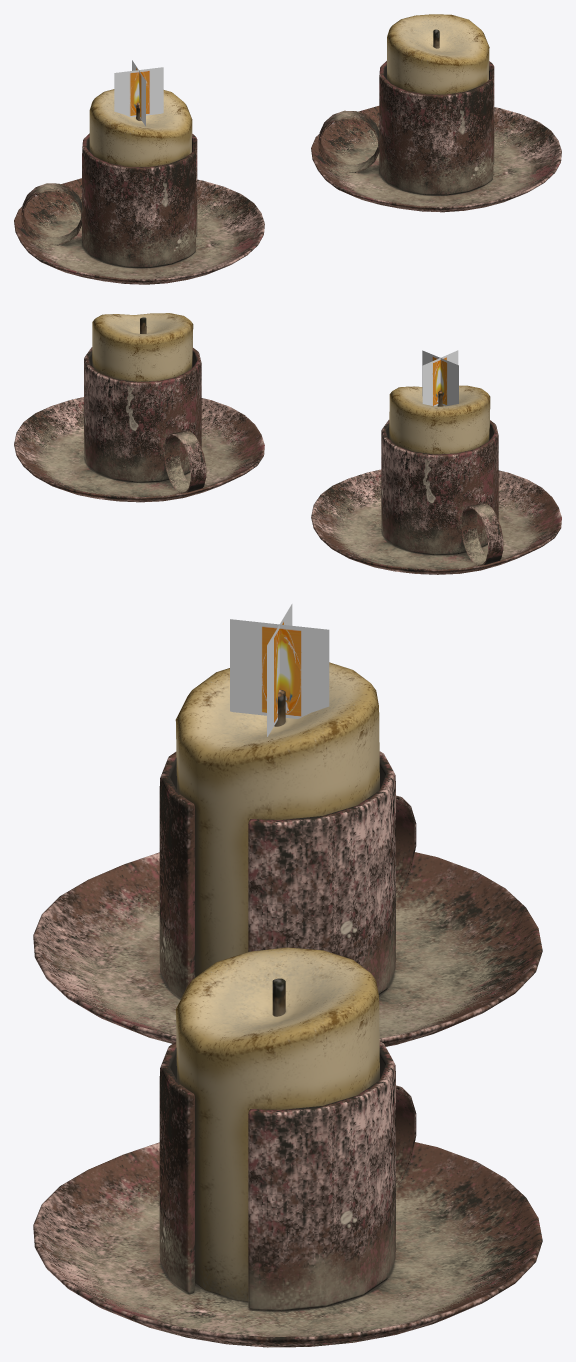
The model's file is sketch.fbx.
The picture shows the model from 3 angles, top to bottom: view 1: azimuth 30°, elevation 25°; view 2: azimuth 150°, elevation 25°; view 3: azimuth 270°, elevation 25°; orthographic projection. The views are drawn at different scales.
Parts seen in each view (by area): view 1: holder_low.005, holder_low.004, plate_low.005, plate_low.004, candle_low.005, candle_low.004, flamecube.004, holder2_low.005, holder2_low.004, flamecube.005; view 2: plate_low.004, plate_low.005, holder_low.005, holder_low.004, candle_low.005, candle_low.004, holder2_low.005, holder2_low.004, flamecube.004, flamecube.005; view 3: plate_low.005, candle_low.005, plate_low.004, holder_low.005, candle_low.004, holder_low.004, flamecube.005, holder2_low.004, holder2_low.005, flamecube.004.
Part boxes in pixels (left/top/right/bottom): holder_low.005: left=379, top=61, right=494, bottom=195; holder_low.004: left=82, top=133, right=197, bottom=267; plate_low.005: left=311, top=106, right=561, bottom=212; plate_low.004: left=14, top=178, right=264, bottom=284; candle_low.005: left=387, top=14, right=489, bottom=94; candle_low.004: left=89, top=89, right=192, bottom=166; flamecube.004: left=114, top=67, right=163, bottom=117; holder2_low.005: left=318, top=110, right=379, bottom=172; holder2_low.004: left=21, top=183, right=81, bottom=245; flamecube.005: left=132, top=60, right=145, bottom=126; plate_low.004: left=311, top=469, right=561, bottom=574; plate_low.005: left=14, top=397, right=264, bottom=502; holder_low.005: left=84, top=347, right=201, bottom=482; holder_low.004: left=381, top=420, right=498, bottom=555; candle_low.005: left=92, top=313, right=193, bottom=381; candle_low.004: left=389, top=385, right=490, bottom=454; holder2_low.005: left=164, top=431, right=206, bottom=493; holder2_low.004: left=461, top=503, right=503, bottom=565; flamecube.004: left=422, top=350, right=458, bottom=406; flamecube.005: left=422, top=350, right=458, bottom=406; plate_low.005: left=33, top=1142, right=542, bottom=1347; candle_low.005: left=175, top=947, right=379, bottom=1301; plate_low.004: left=33, top=852, right=542, bottom=1046; holder_low.005: left=159, top=1041, right=395, bottom=1311; candle_low.004: left=175, top=662, right=379, bottom=977; holder_low.004: left=159, top=751, right=395, bottom=999; flamecube.005: left=230, top=619, right=329, bottom=718; holder2_low.004: left=396, top=795, right=416, bottom=897; holder2_low.005: left=396, top=1085, right=416, bottom=1187; flamecube.004: left=267, top=604, right=292, bottom=736.
Size of the model in its own units: 21.69 by 7.08 by 9.27.
